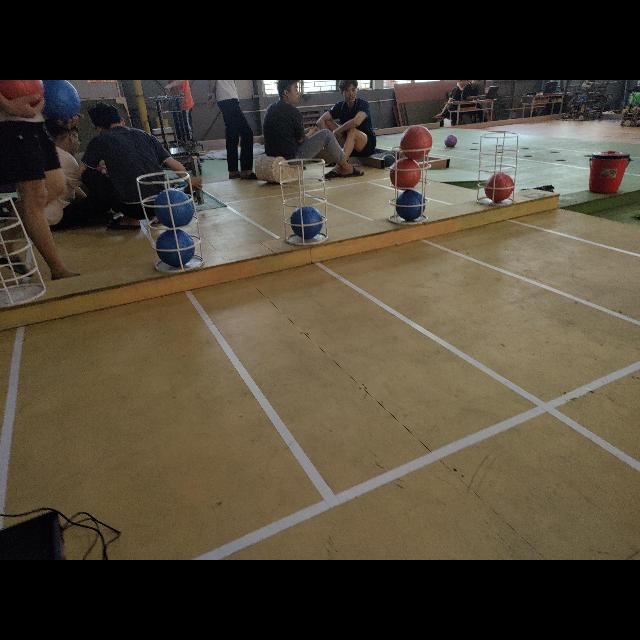B: (154, 190, 194, 228), (156, 229, 194, 265), (291, 206, 323, 238), (395, 190, 425, 220)
R: (400, 125, 432, 158), (390, 159, 420, 189), (484, 172, 514, 202)
